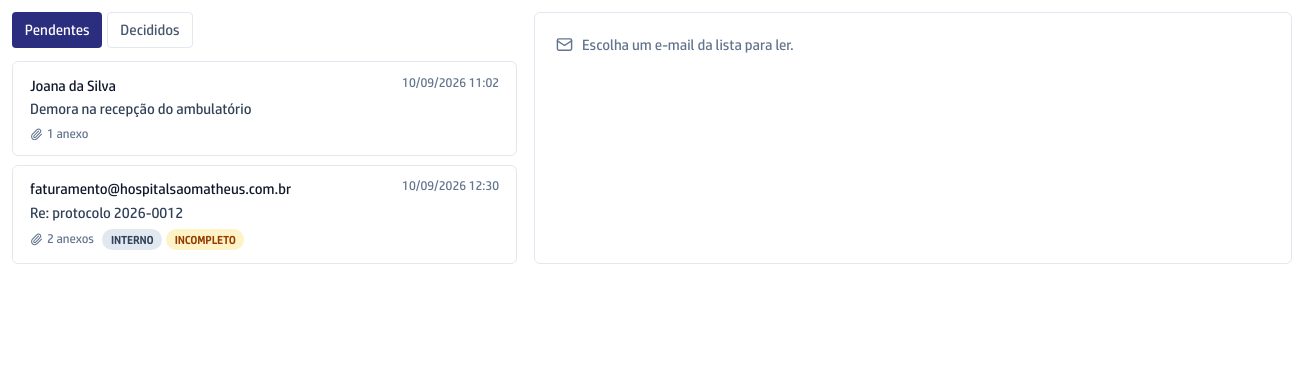
o painel do item › os anexos além do teto de quantidade aparecem como um aviso, sem virar anexo
The image size is (1292, 384).
Click the button "Demora na recepção do ambulatório": (73, 85) [12,61,517,156]
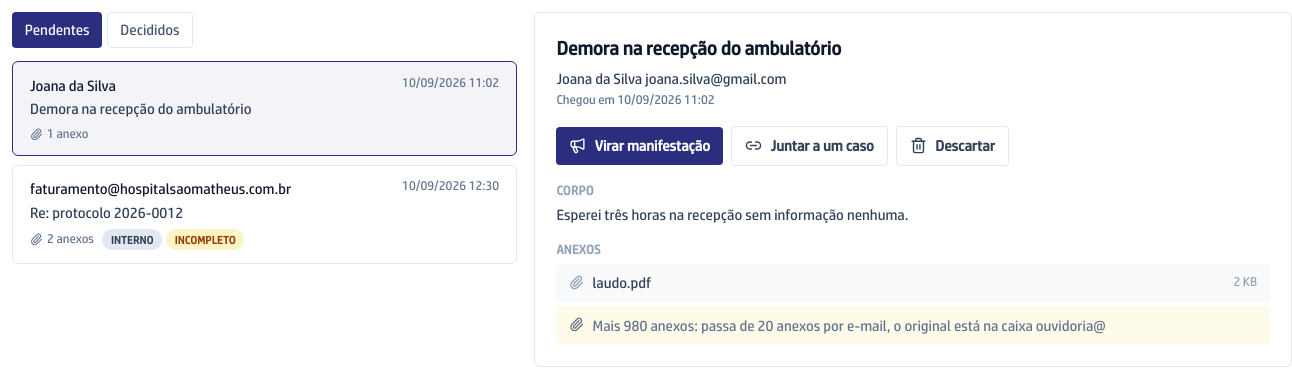
Expected: the button "laudo.pdf 2 KB" is shown, [556,264,1270,302]
